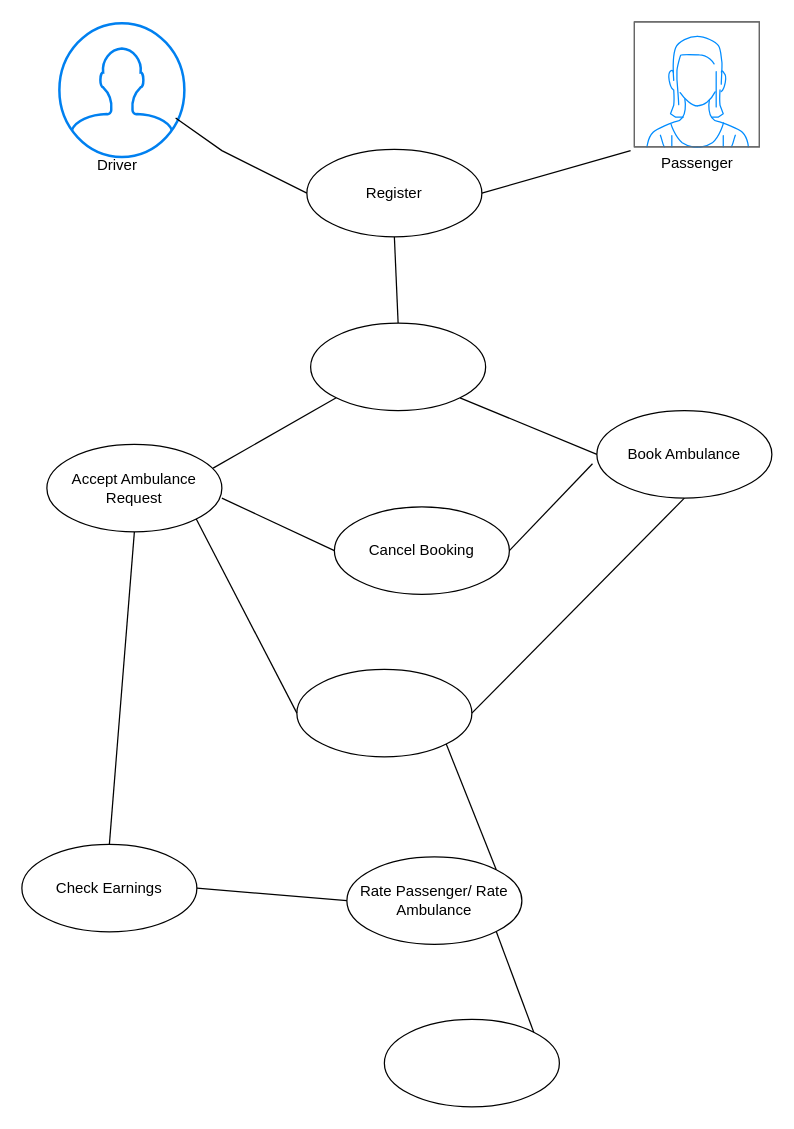
This 794x1129 diagram has some shape labels left out. Here are the shapes that lost their labels. From the top down, the centre of each, then its label:
[397,366]: Login
[384,712]: Check Ride History
[471,1062]: Logout
